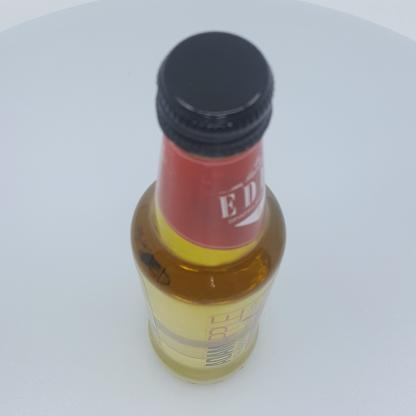----------------: (129, 30, 286, 385)
